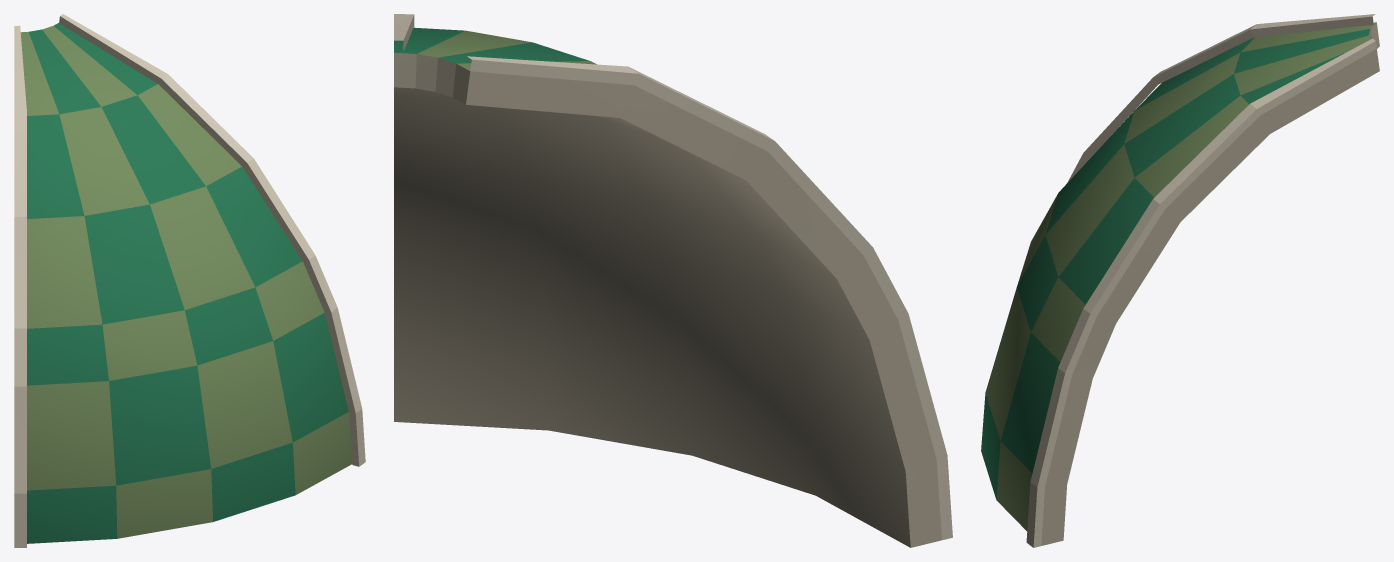
File: dome.panel_6.green.glb
3 views of the same model, side by side, from view 1: azimuth 30°, elevation 25°; view 2: azimuth 150°, elevation 25°; view 3: azimuth 270°, elevation 25° (orthographic). The views are drawn at different scales.
Visible parts, largest first — view 1: dome_panel_6_green; view 2: dome_panel_6_green; view 3: dome_panel_6_green.
Part boxes in pixels (x1=…): dome_panel_6_green: x1=14, y1=14, x2=365, y2=547; dome_panel_6_green: x1=394, y1=14, x2=952, y2=547; dome_panel_6_green: x1=981, y1=14, x2=1379, y2=547.
Size of what is drawn, in the model's own units: 3.57 by 3.63 by 3.1.
